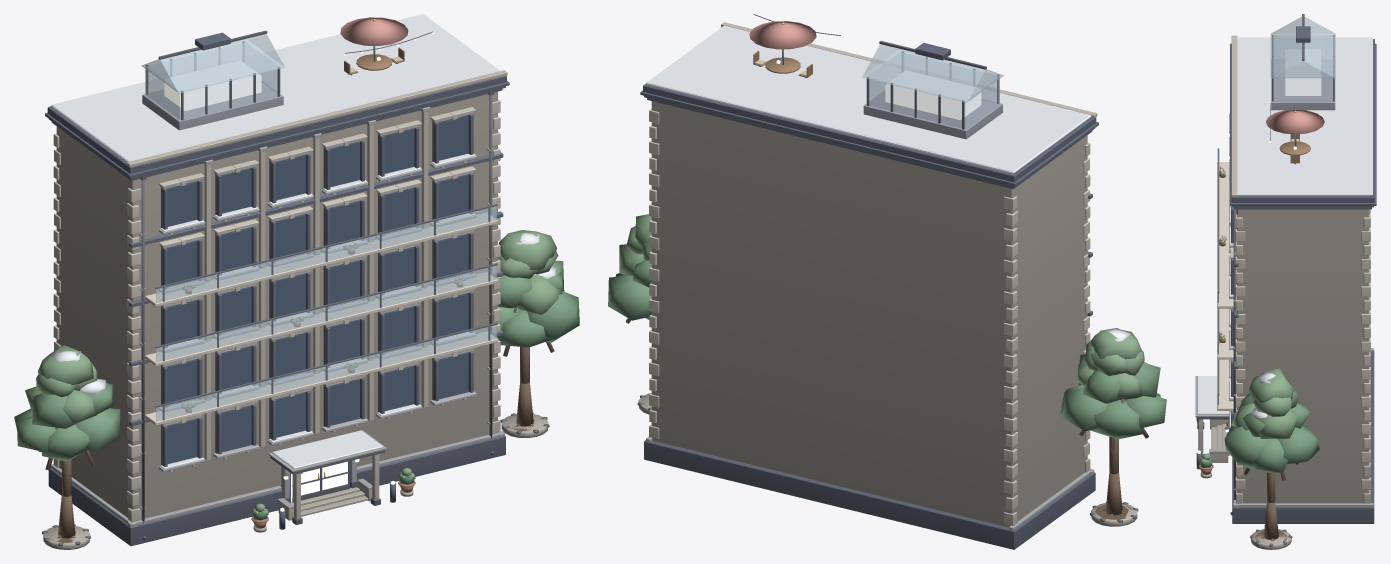
The model's file is dorm_grad.glb.
3 views of the same model, side by side, from view 1: azimuth 30°, elevation 25°; view 2: azimuth 150°, elevation 25°; view 3: azimuth 270°, elevation 25° (orthographic). The views are drawn at different scales.
Parts seen in each view (by area): view 1: Dorm_Body, Static_Merged_Mat_Frame_Dark, Static_Merged_Mat_Stone_Trim, Season_Snow_Merged_Mat_Snow_Cap, Static_Merged_Mat_Glass_Rail, Static_Merged_Mat_Metal_Light, Static_Merged_Mat_Trim_Cream, Static_Merged_Mat_Leaf_Main, Static_Merged_Mat_Metal_Dark, Static_Merged_Mat_Leaf_Accent, Static_Merged_Mat_Lamp_Glow, Greenhouse_Base (+34 smaller); view 2: Dorm_Body, Season_Snow_Merged_Mat_Snow_Cap, Static_Merged_Mat_Frame_Dark, Static_Merged_Mat_Stone_Trim, Static_Merged_Mat_Glass_Rail, Static_Merged_Mat_Leaf_Main, Static_Merged_Mat_Leaf_Accent, Static_Merged_Mat_Lamp_Glow, Greenhouse_Base, Patio_Umbrella, Static_Merged_Mat_Trunk, Static_Merged_Mat_Metal_Dark; view 3: Dorm_Body, Season_Snow_Merged_Mat_Snow_Cap, Static_Merged_Mat_Frame_Dark, Static_Merged_Mat_Stone_Trim, Static_Merged_Mat_Glass_Rail, Static_Merged_Mat_Leaf_Main, Static_Merged_Mat_Trim_Cream, Static_Merged_Mat_Leaf_Accent, Static_Merged_Mat_Metal_Dark, Greenhouse_Base, Static_Merged_Mat_Lamp_Glow, Static_Merged_Mat_Metal_Light (+3 smaller).
Boxes of the visible parts, x1,y1,x2,y2 form: Dorm_Body: (56, 91, 497, 518); Static_Merged_Mat_Frame_Dark: (45, 32, 509, 546); Static_Merged_Mat_Stone_Trim: (43, 70, 548, 549); Season_Snow_Merged_Mat_Snow_Cap: (50, 14, 557, 469); Static_Merged_Mat_Glass_Rail: (141, 34, 496, 421); Static_Merged_Mat_Metal_Light: (50, 46, 504, 526); Static_Merged_Mat_Trim_Cream: (145, 213, 498, 425); Static_Merged_Mat_Leaf_Main: (14, 272, 579, 461); Static_Merged_Mat_Metal_Dark: (140, 30, 497, 539); Static_Merged_Mat_Leaf_Accent: (25, 230, 563, 516); Static_Merged_Mat_Lamp_Glow: (164, 61, 261, 110); Greenhouse_Base: (142, 81, 283, 130); Dorm_Body: (651, 101, 1087, 527); Season_Snow_Merged_Mat_Snow_Cap: (646, 25, 1129, 355); Static_Merged_Mat_Frame_Dark: (640, 43, 1098, 549); Static_Merged_Mat_Stone_Trim: (638, 22, 1137, 526); Static_Merged_Mat_Glass_Rail: (862, 44, 1003, 128); Static_Merged_Mat_Leaf_Main: (608, 260, 1166, 439); Static_Merged_Mat_Leaf_Accent: (619, 214, 1146, 399); Static_Merged_Mat_Lamp_Glow: (885, 71, 981, 119); Greenhouse_Base: (863, 90, 1002, 139); Patio_Umbrella: (749, 21, 816, 49); Static_Merged_Mat_Trunk: (625, 318, 1148, 519); Static_Merged_Mat_Metal_Dark: (753, 14, 999, 129); Dorm_Body: (1237, 209, 1369, 503); Season_Snow_Merged_Mat_Snow_Cap: (1197, 37, 1372, 426); Static_Merged_Mat_Frame_Dark: (1196, 26, 1376, 523); Static_Merged_Mat_Stone_Trim: (1198, 35, 1370, 549); Static_Merged_Mat_Glass_Rail: (1218, 17, 1335, 407); Static_Merged_Mat_Leaf_Main: (1224, 393, 1319, 472); Static_Merged_Mat_Trim_Cream: (1217, 162, 1233, 410); Static_Merged_Mat_Leaf_Accent: (1200, 368, 1299, 465); Static_Merged_Mat_Metal_Dark: (1196, 14, 1334, 515); Greenhouse_Base: (1271, 59, 1335, 110); Static_Merged_Mat_Lamp_Glow: (1285, 50, 1321, 95); Static_Merged_Mat_Metal_Light: (1195, 114, 1373, 507).
Size of the model in its own units: 27.67 by 21.3 by 9.05.
